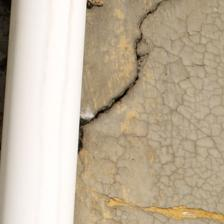Crack: (37, 1, 131, 150)
